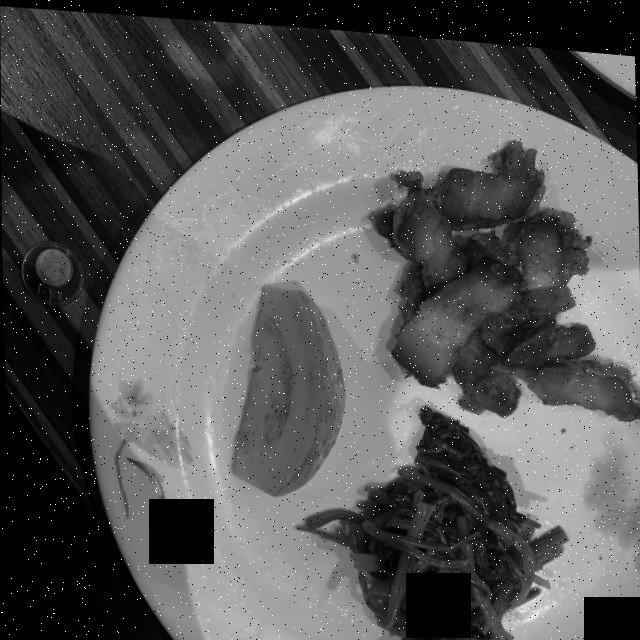coin: (18, 239, 82, 304)
guava -sliced-: (231, 281, 343, 491)
mustard greens: (297, 400, 565, 640)
red grilled pork: (371, 132, 640, 409)
